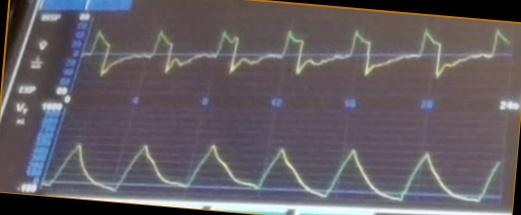Premature_cycling Flow: (90, 25, 510, 91)
Premature_cycling Volume: (55, 141, 498, 203)
